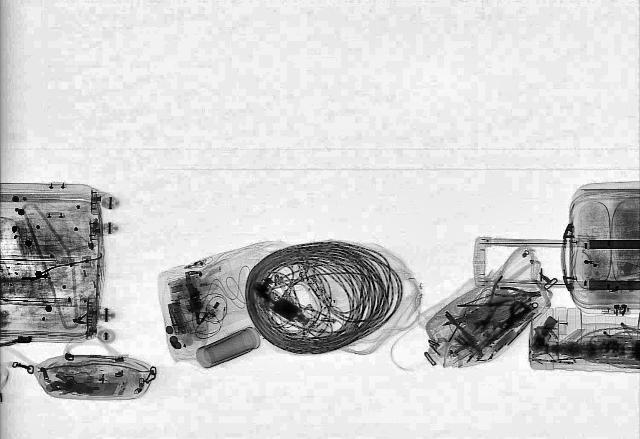Pliers: (492, 286, 540, 298)
